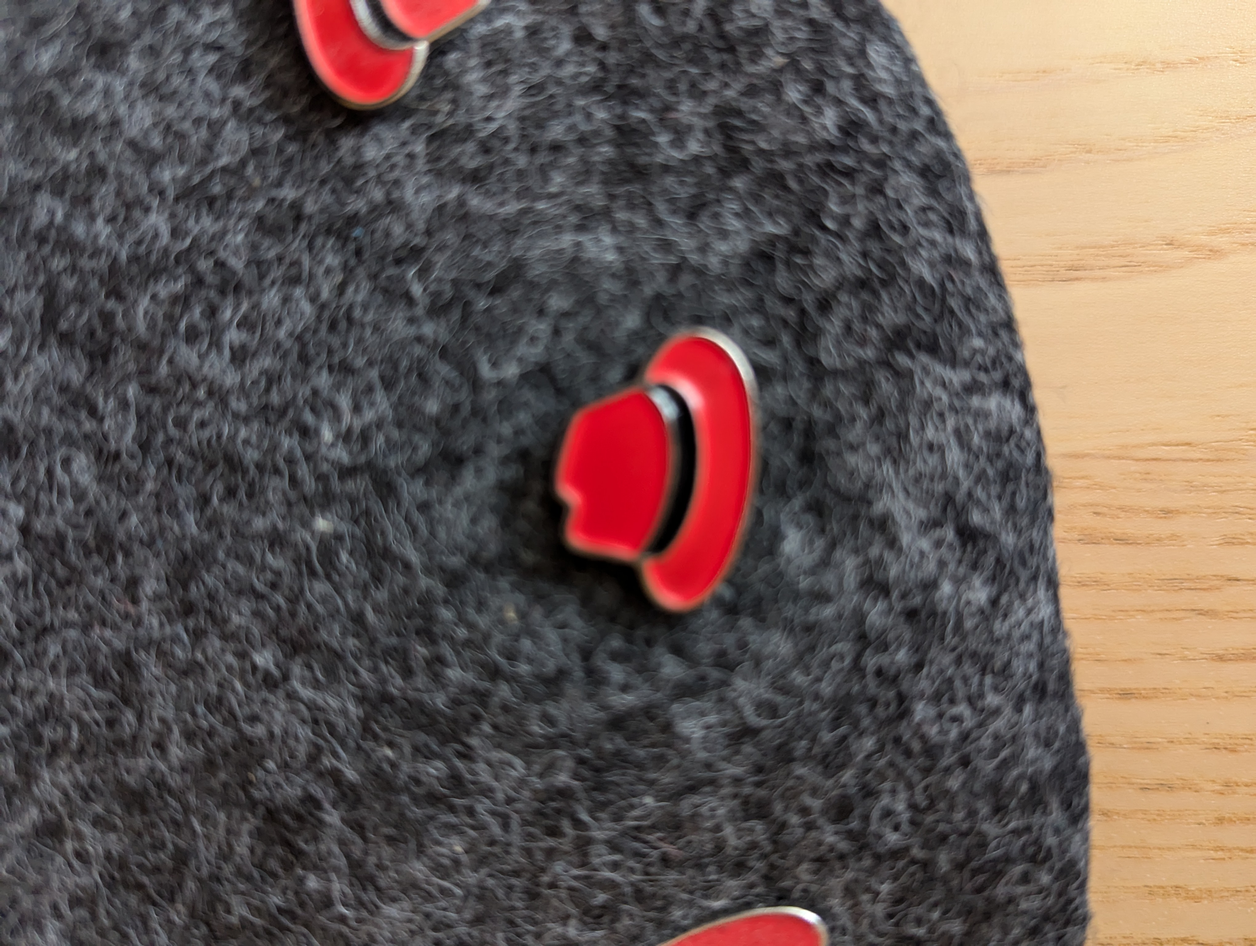Red-Hat: (496, 280, 836, 674), (234, 0, 526, 153)
